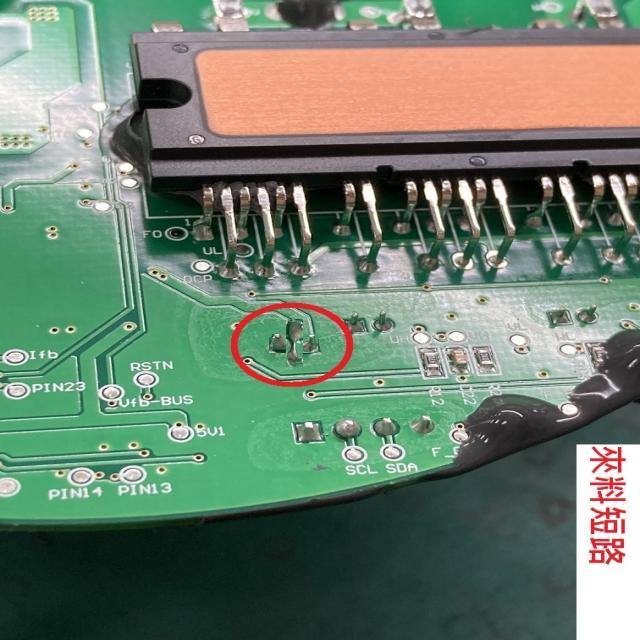Short_circuit: (285, 320, 303, 367)
